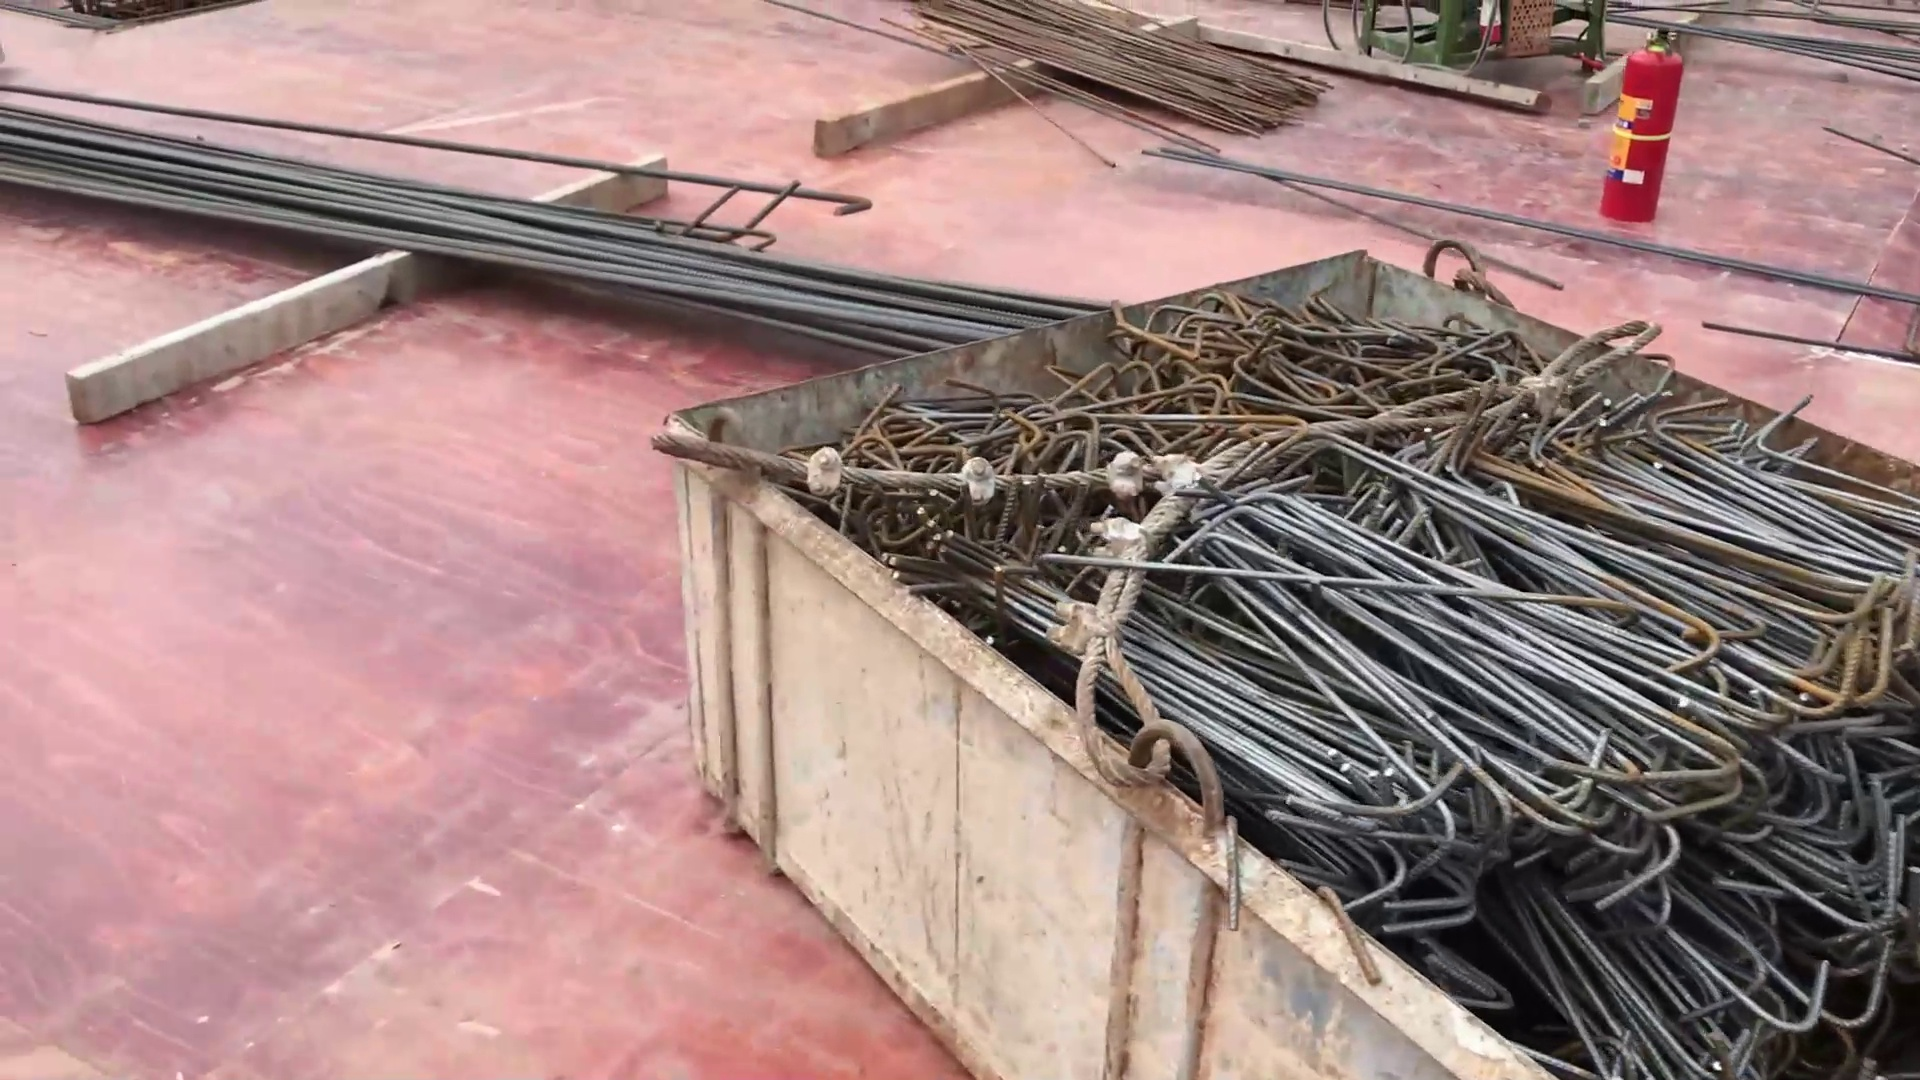hopper: (615, 129, 1905, 1080)
rebar: (16, 55, 959, 359), (938, 1, 1356, 140)
